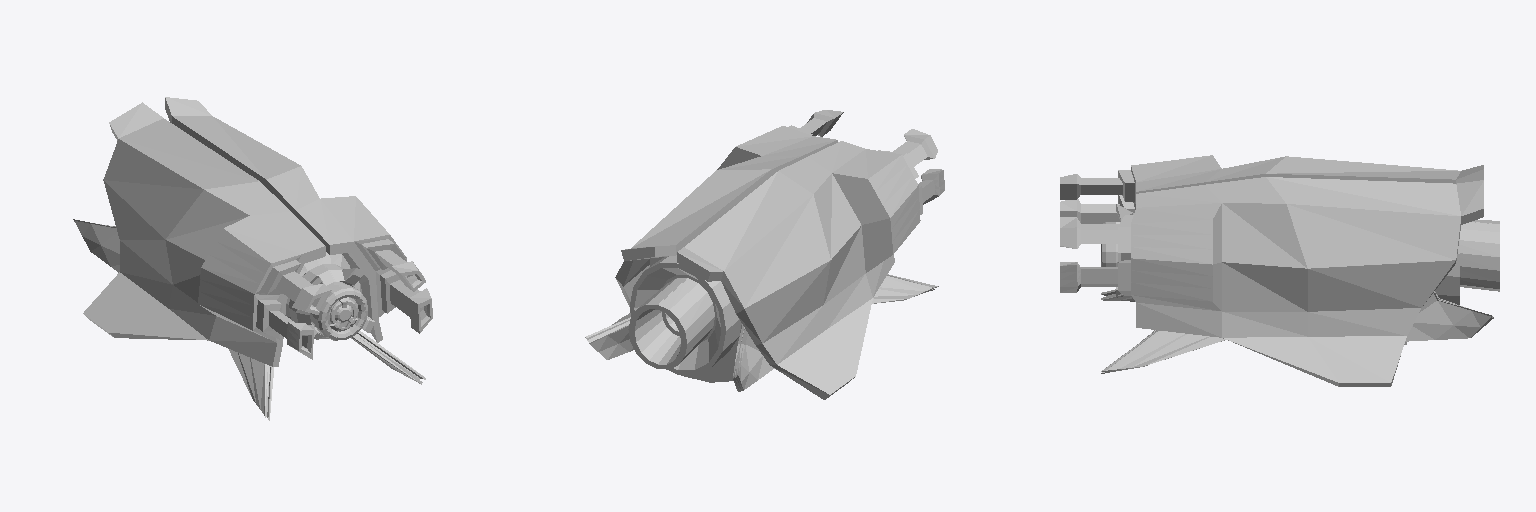
File: Drone_001.obj
The picture shows the model from 3 angles: view 1: azimuth 30°, elevation 25°; view 2: azimuth 150°, elevation 25°; view 3: azimuth 270°, elevation 25°; orthographic projection.
Visible parts, largest first — view 1: Drone_001_Plane.001; view 2: Drone_001_Plane.001; view 3: Drone_001_Plane.001.
Boxes of the visible parts, x1,y1,x2,y2 form: Drone_001_Plane.001: [73, 97, 432, 420]; Drone_001_Plane.001: [585, 110, 944, 399]; Drone_001_Plane.001: [1060, 155, 1499, 386].
Size of the model in its own units: 1.87 by 1.24 by 3.04.